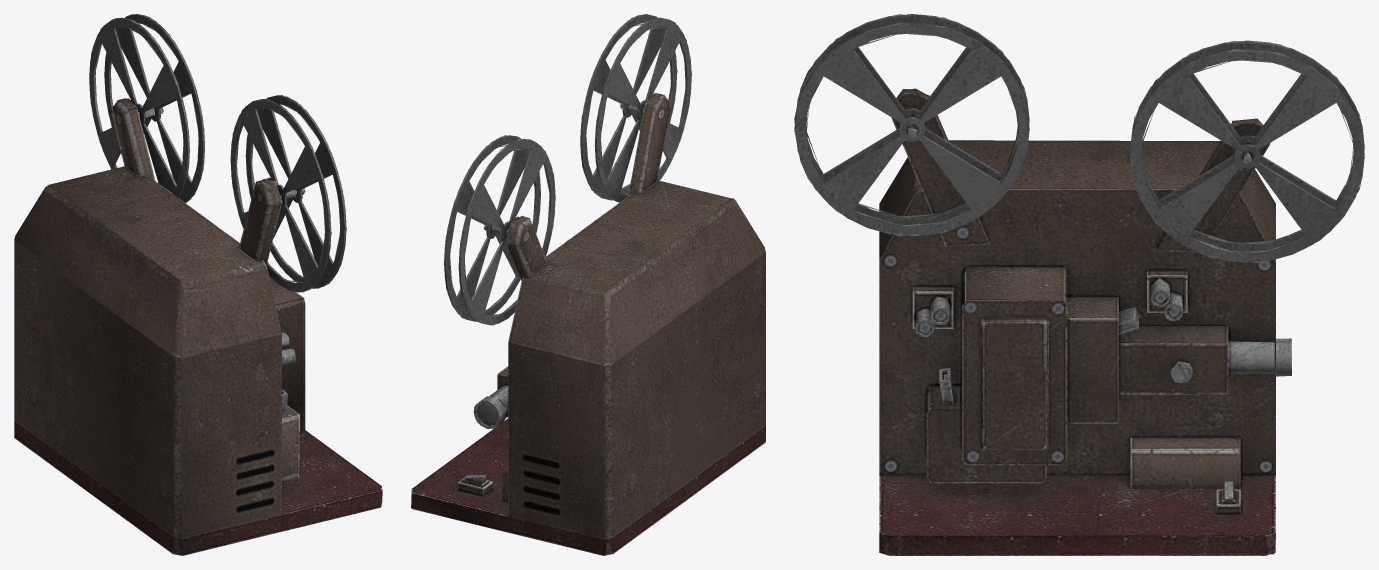
File: wwwunderkammer_Regina_Asset_projector.glb
3 views of the same model, side by side, from view 1: azimuth 30°, elevation 25°; view 2: azimuth 150°, elevation 25°; view 3: azimuth 270°, elevation 25° (orthographic). The views are drawn at different scales.
Parts seen in each view (by area): view 1: FilmProjector; view 2: FilmProjector; view 3: FilmProjector.
Part boxes in pixels (x1,y1,x2,y2): FilmProjector: [14, 14, 382, 555]; FilmProjector: [411, 14, 765, 555]; FilmProjector: [794, 14, 1364, 555].
Size of the model in its own units: 1.01 by 1.89 by 2.
Materials: 1 (1 with a texture image).
